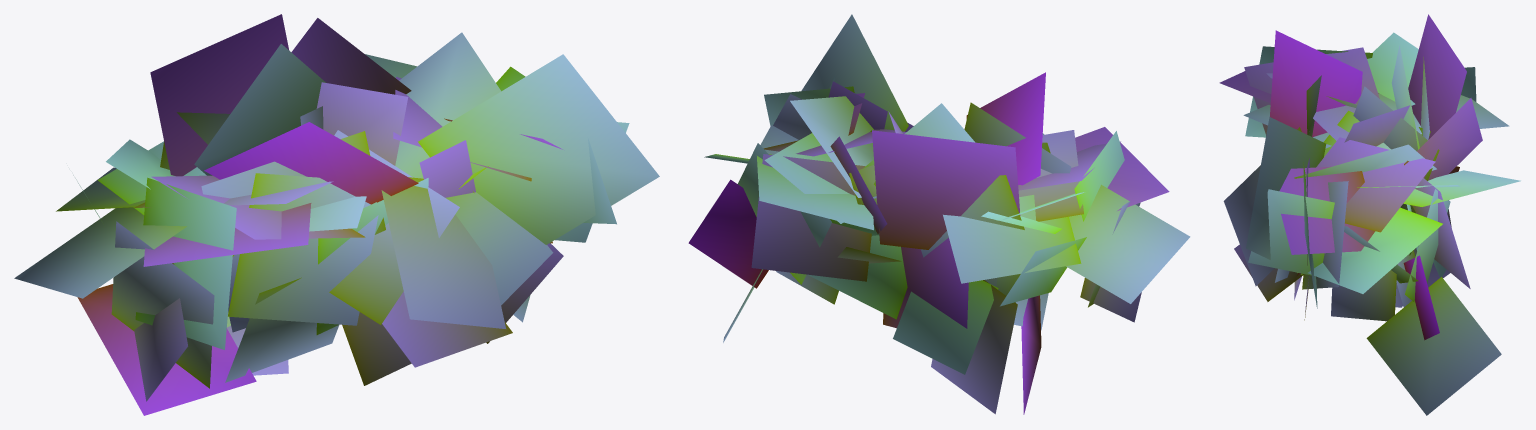
The model's file is tree_box_a_lod1.glb.
3 renders of one model, left to right at view 1: azimuth 30°, elevation 25°; view 2: azimuth 150°, elevation 25°; view 3: azimuth 270°, elevation 25°, orthographic. The views are drawn at different scales.
Visible parts, largest first — view 1: tree_box_a_lod1; view 2: tree_box_a_lod1; view 3: tree_box_a_lod1.
Boxes of the visible parts, x1,y1,x2,y2 form: tree_box_a_lod1: [14, 14, 659, 415]; tree_box_a_lod1: [688, 14, 1190, 414]; tree_box_a_lod1: [1219, 14, 1520, 415].
Size of the model in its own units: 2.72 by 1.6 by 1.59.
